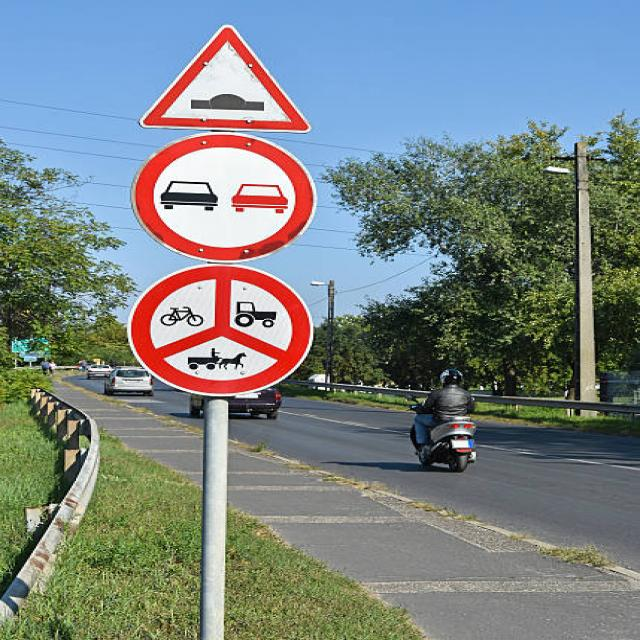hump: (134, 18, 321, 131)
no overtaking: (124, 132, 324, 265)
